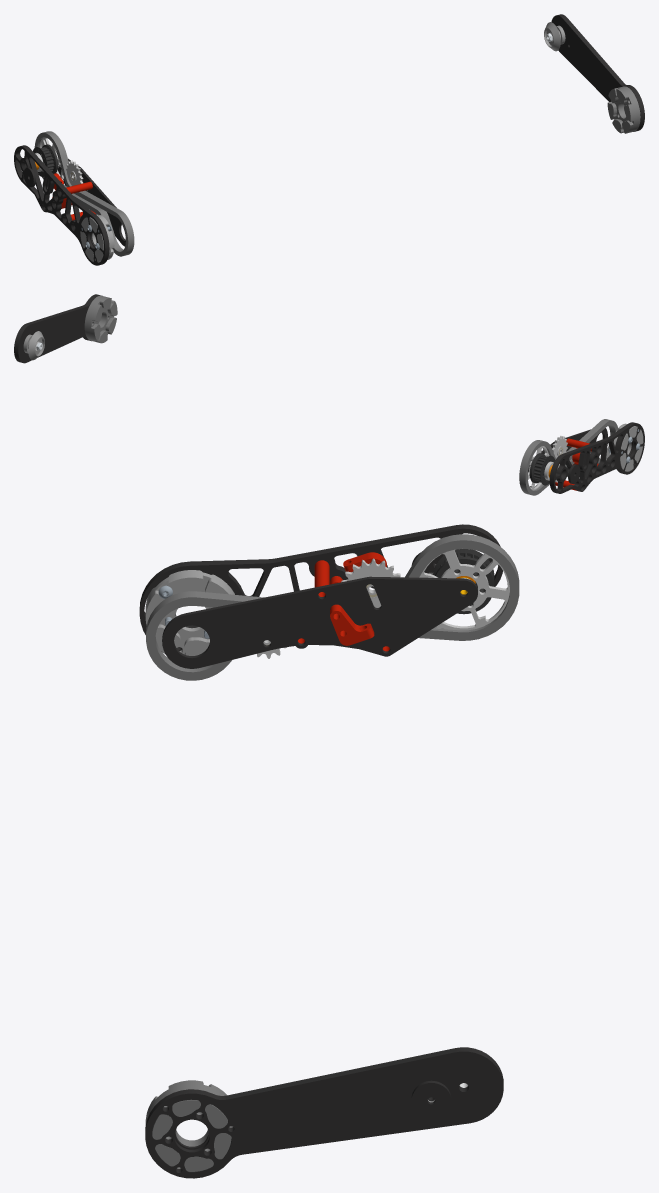
3 renders of one model, top to bottom at view 1: azimuth 30°, elevation 25°; view 2: azimuth 150°, elevation 25°; view 3: azimuth 270°, elevation 25°, orthographic. The views are drawn at different scales.
Parts seen in each view (by area): view 1: skill saw, thermometer (×2), 90L #25 Chain, pivot shoulder drive dog left, shoulder pivot drive dog right, skill saw 1/8, 22t Custom HTD 5mm Pulley (0.394" Wide, *0.713" Circular Bor; view 2: skill saw, thermometer (×2), 90L #25 Chain, pivot shoulder drive dog left, shoulder pivot drive dog right, 22t Custom HTD 5mm Pulley (0.394" Wide, *0.713" Circular Bor, ES5; view 3: thermometer (×2), skill saw 1/8 (×2), 90L #25 Chain, skill saw, pivot shoulder drive dog left, shoulder pivot drive dog right, 32t Sprocket (#25 Chain), slot capture washer, tensioner block, 22t Custom HTD 5mm Pulley (0.394" Wide, *0.713" Circular Bor.
Boxes of the visible parts, x1,y1,x2,y2 form: skill saw: (14,145,109,265); thermometer (×2): (551,14,644,131); 90L #25 Chain: (34,131,134,256); pivot shoulder drive dog left: (607,86,640,133); shoulder pivot drive dog right: (80,214,114,262); skill saw 1/8: (56,151,125,246); 22t Custom HTD 5mm Pulley (0.394" Wide, *0.713" Circular Bor: (33,144,58,176); skill saw: (549,422,644,493); thermometer (×2): (14,294,100,363); 90L #25 Chain: (519,419,618,495); pivot shoulder drive dog left: (84,295,117,343); shoulder pivot drive dog right: (609,423,643,471); 22t Custom HTD 5mm Pulley (0.394" Wide, *0.713" Circular Bor: (529,453,555,485); ES5: (28,331,44,360); thermometer (×2): (145,1047,503,1178); skill saw 1/8 (×2): (162,576,477,668); 90L #25 Chain: (146,534,519,680); skill saw: (139,524,502,653); pivot shoulder drive dog left: (145,1080,232,1171); shoulder pivot drive dog right: (145,570,234,655); 32t Sprocket (#25 Chain): (419,548,509,630); slot capture washer: (411,1080,451,1118); tensioner block: (330,604,374,645); 22t Custom HTD 5mm Pulley (0.394" Wide, *0.713" Circular Bor: (433,549,494,614).
Bounding box in the file's own units: 0.8033 × 0.1028 × 0.2418.
